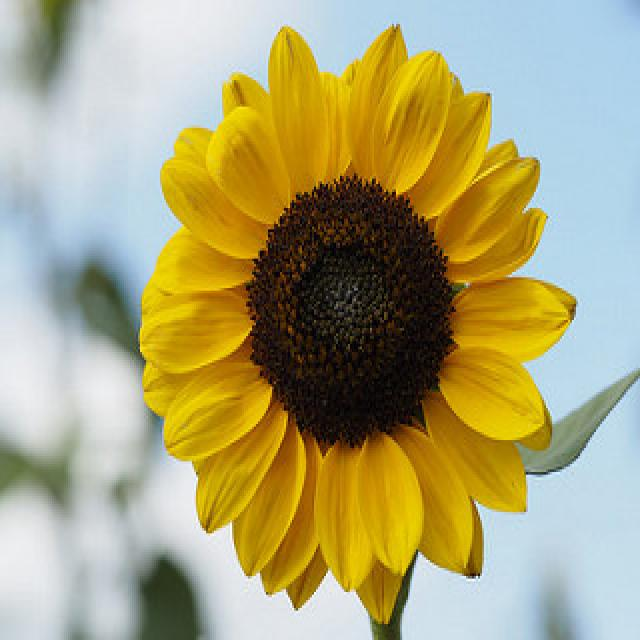sunflower: (138, 16, 578, 629)
